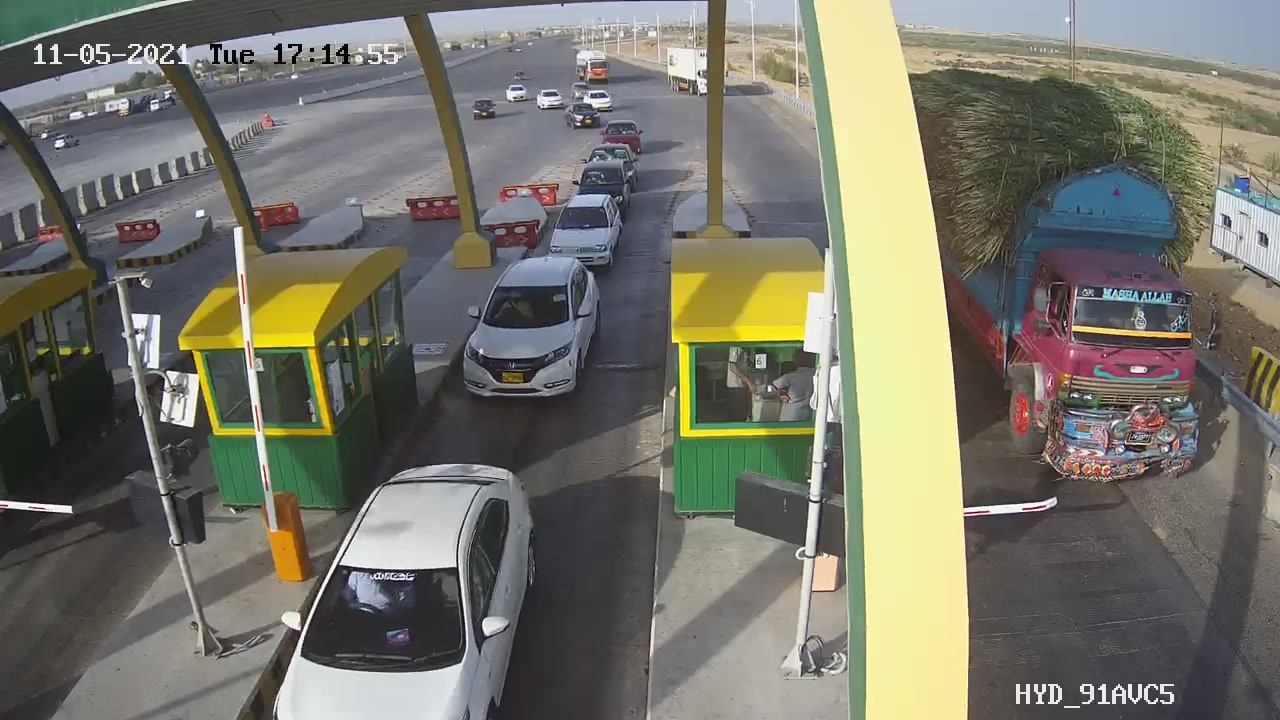F1: (444, 247, 609, 414)
